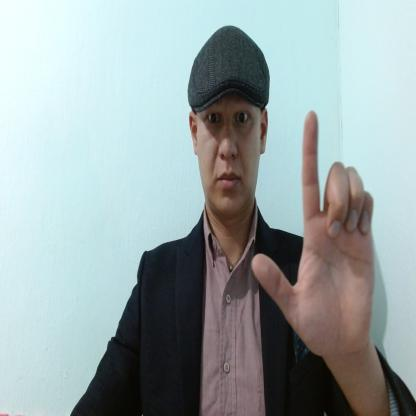L: (251, 108, 374, 353)
